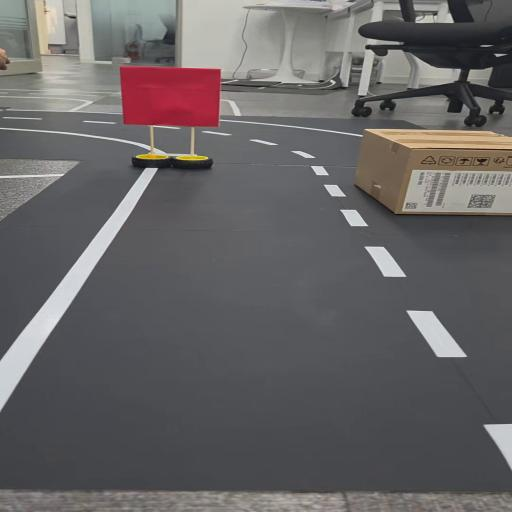Box: (346, 122, 512, 228)
Sign_A: (120, 62, 230, 178)
